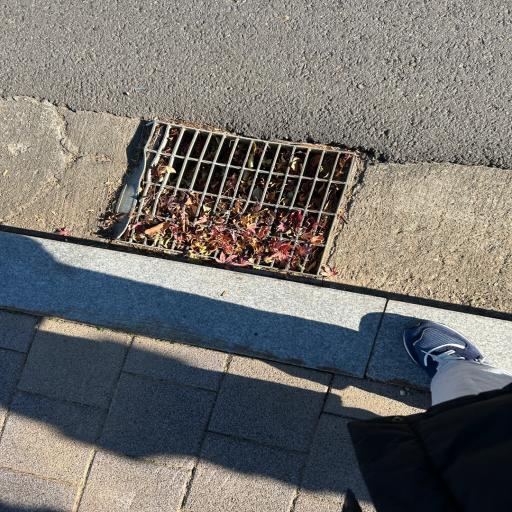debris: (133, 192, 309, 268), (275, 209, 302, 238), (301, 217, 329, 242), (280, 178, 299, 204), (237, 171, 255, 198), (153, 157, 170, 184), (325, 185, 344, 209), (246, 144, 264, 169), (261, 147, 279, 169), (267, 177, 282, 203), (252, 175, 268, 199), (305, 248, 321, 272), (309, 184, 325, 208), (164, 128, 180, 151), (143, 187, 156, 213), (223, 174, 238, 196), (183, 164, 198, 186), (207, 172, 222, 193), (234, 143, 249, 164), (275, 151, 289, 172), (338, 155, 349, 178), (296, 184, 306, 207), (205, 143, 217, 161), (291, 155, 302, 173), (198, 172, 207, 188), (164, 167, 176, 174)
drain: (121, 120, 359, 281)
